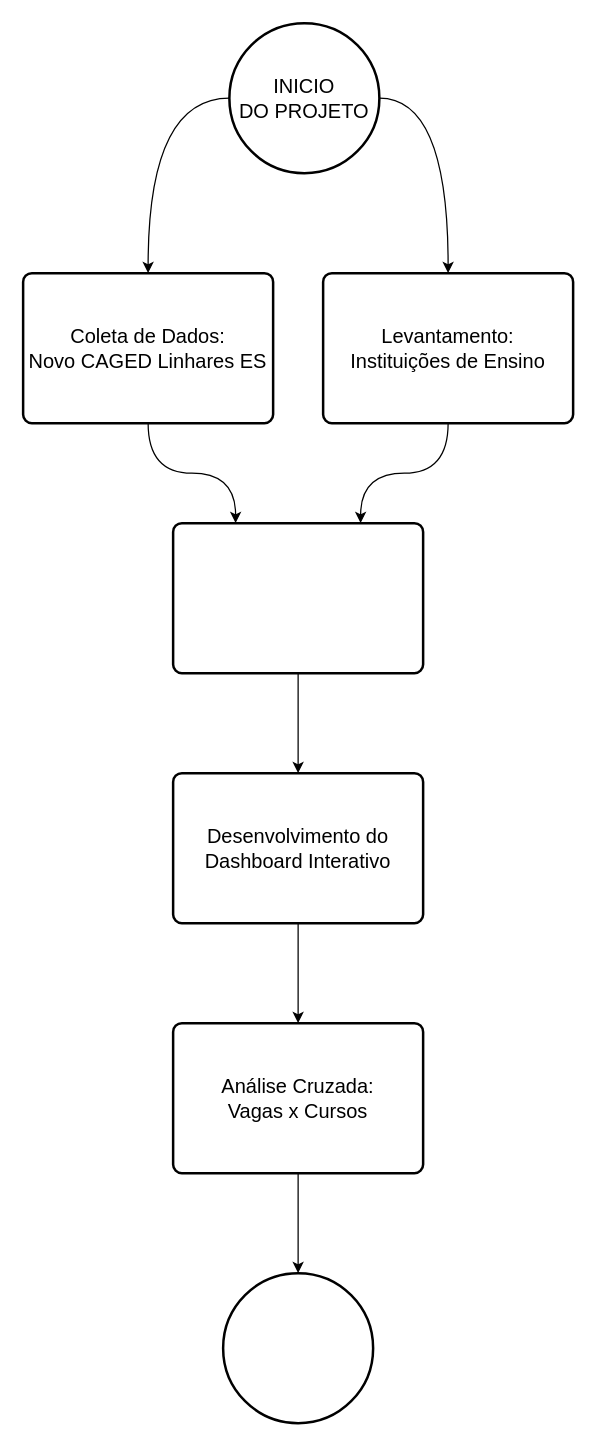
This 595x1445 diagram has some shape labels left out. Here are the shapes that lost their labels. From the top down, the centre of each, then its label:
At (297,597): "Tratamento e Limpeza de Dados".
At (297,1347): "FIM DO PROJETO".
